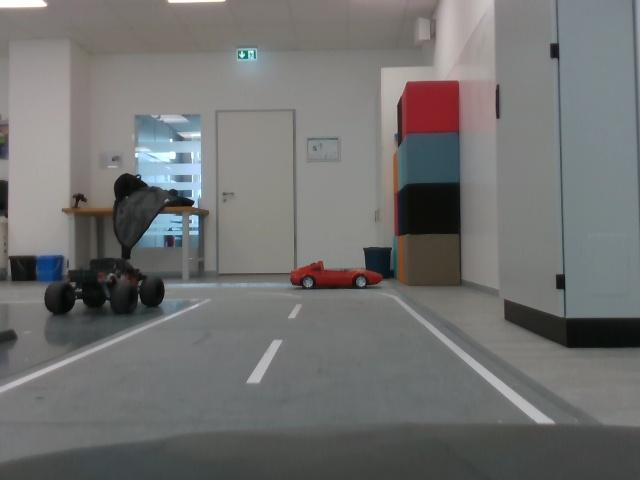car: (43, 253, 176, 323), (287, 254, 388, 295)
